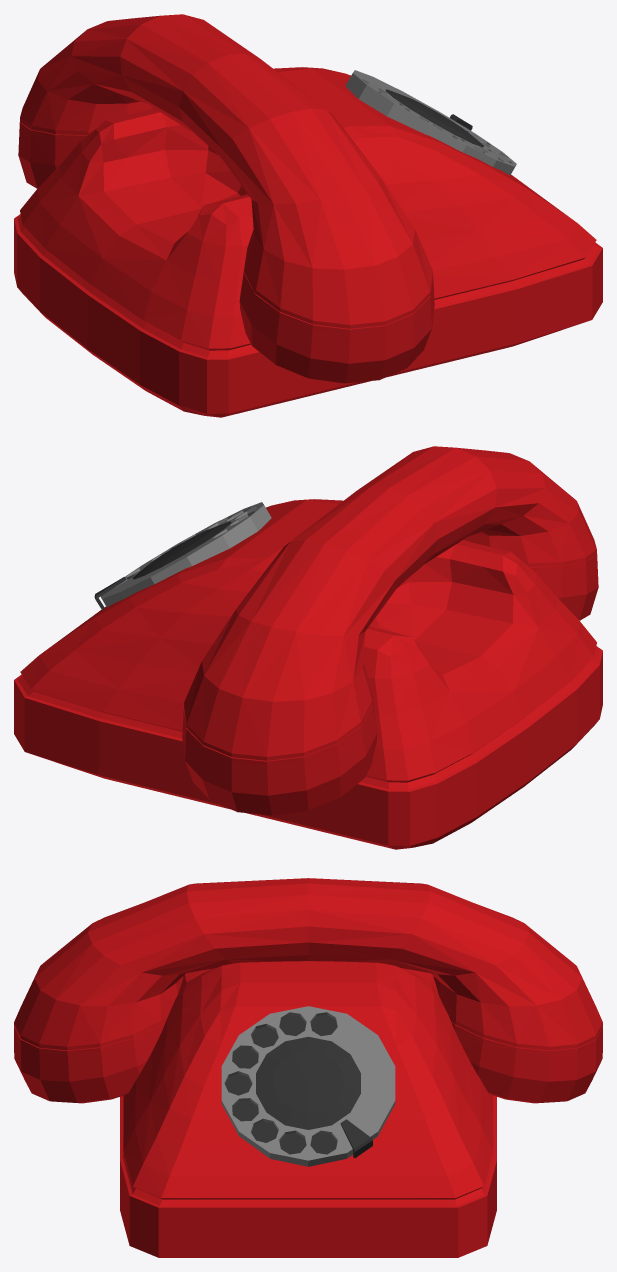
Rendered from telephone_red.glb.
3 views of the same model, one above another, from view 1: azimuth 30°, elevation 25°; view 2: azimuth 150°, elevation 25°; view 3: azimuth 270°, elevation 25° (orthographic). The views are drawn at different scales.
Parts seen in each view (by area): view 1: Phone; view 2: Phone; view 3: Phone.
Boxes of the visible parts, x1,y1,x2,y2 form: Phone: (14, 14, 602, 417); Phone: (14, 446, 602, 849); Phone: (14, 878, 602, 1257).
Size of the model in its own units: 69.22 by 41.02 by 87.67.
1 material, 1 textured.
